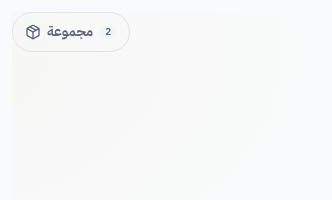
Scenario: opening a card › reveals its options
What coordinates should you click on to do the following:
click the button with test id "quick-card-a"
I would click on:
 (71, 32)
Its box is [13,13,129,51].
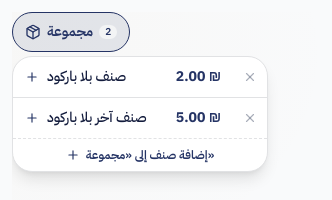
Expected: the text "صنف بلا باركود" is shown, [47,66,126,87]
